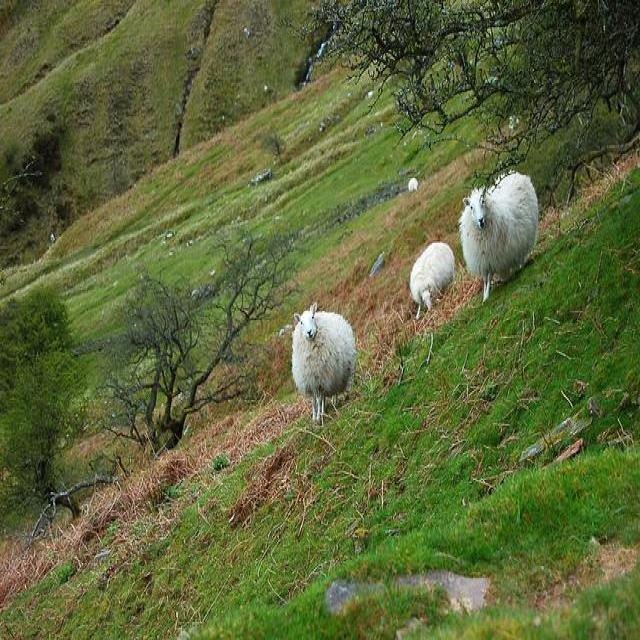Sheep: (457, 170, 542, 308), (290, 302, 357, 421), (410, 240, 457, 328)
